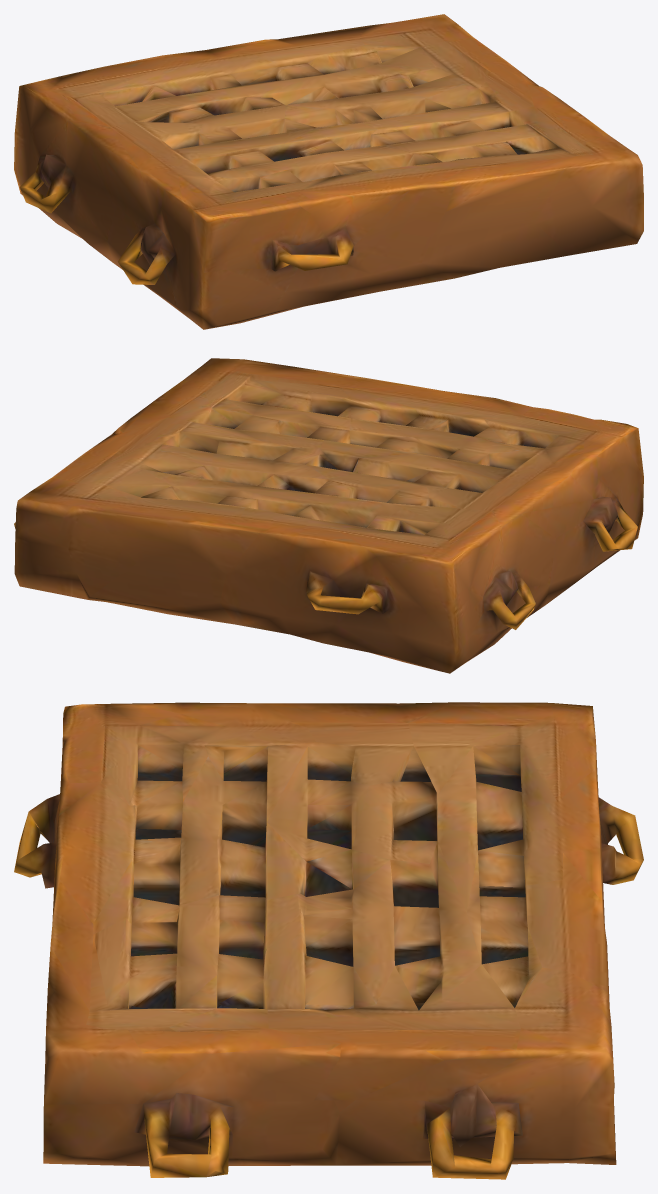
File: model-prop-deck-grating-01.glb
The picture shows the model from 3 angles, top to bottom: view 1: azimuth 30°, elevation 25°; view 2: azimuth 150°, elevation 25°; view 3: azimuth 270°, elevation 25°; orthographic projection. The views are drawn at different scales.
Visible parts, largest first — view 1: tripo_node_1f8cca87-1008-4221-88d2-56a4554b9173; view 2: tripo_node_1f8cca87-1008-4221-88d2-56a4554b9173; view 3: tripo_node_1f8cca87-1008-4221-88d2-56a4554b9173.
Boxes of the visible parts, bbox=[...] form: tripo_node_1f8cca87-1008-4221-88d2-56a4554b9173: bbox=[14, 14, 643, 329]; tripo_node_1f8cca87-1008-4221-88d2-56a4554b9173: bbox=[14, 358, 643, 673]; tripo_node_1f8cca87-1008-4221-88d2-56a4554b9173: bbox=[14, 702, 643, 1179].
Size of the model in its own units: 0.8719 by 0.2 by 0.6675.
Materials: 1 (1 with a texture image).
